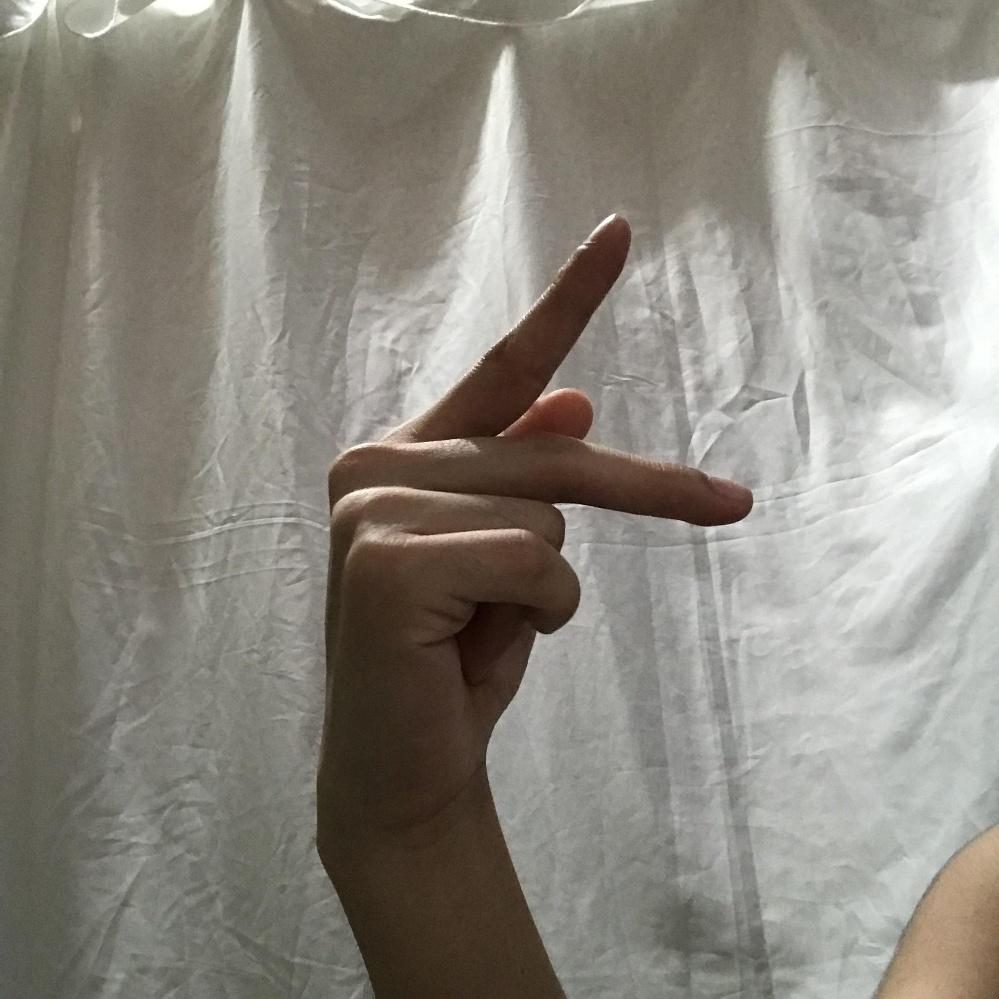k: (323, 211, 757, 812)
